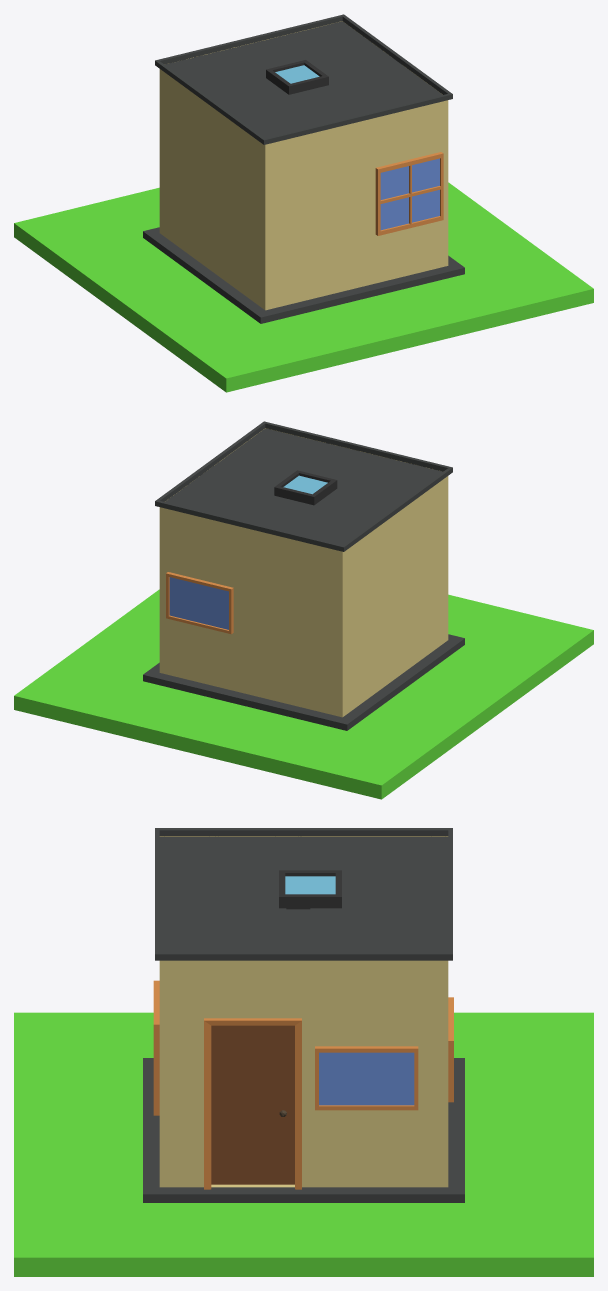
File: Building2.glb
The picture shows the model from 3 angles, top to bottom: view 1: azimuth 30°, elevation 25°; view 2: azimuth 150°, elevation 25°; view 3: azimuth 270°, elevation 25°; orthographic projection. The views are drawn at different scales.
Visible parts, largest first — view 1: Cube, Cube.002, Cube.001; view 2: Cube, Cube.002, Cube.001; view 3: Cube, Cube.002, Cube.001.
Boxes of the visible parts, x1=… form: Cube: x1=143, y1=14, x2=464, y2=323; Cube.002: x1=14, y1=182, x2=593, y2=392; Cube.001: x1=266, y1=60, x2=328, y2=94; Cube: x1=143, y1=421, x2=464, y2=730; Cube.002: x1=14, y1=589, x2=593, y2=799; Cube.001: x1=274, y1=470, x2=337, y2=505; Cube: x1=143, y1=828, x2=464, y2=1202; Cube.002: x1=14, y1=1012, x2=593, y2=1276; Cube.001: x1=279, y1=870, x2=341, y2=909.
Bounding box in the file's own units: 12 × 6.12 × 12.
